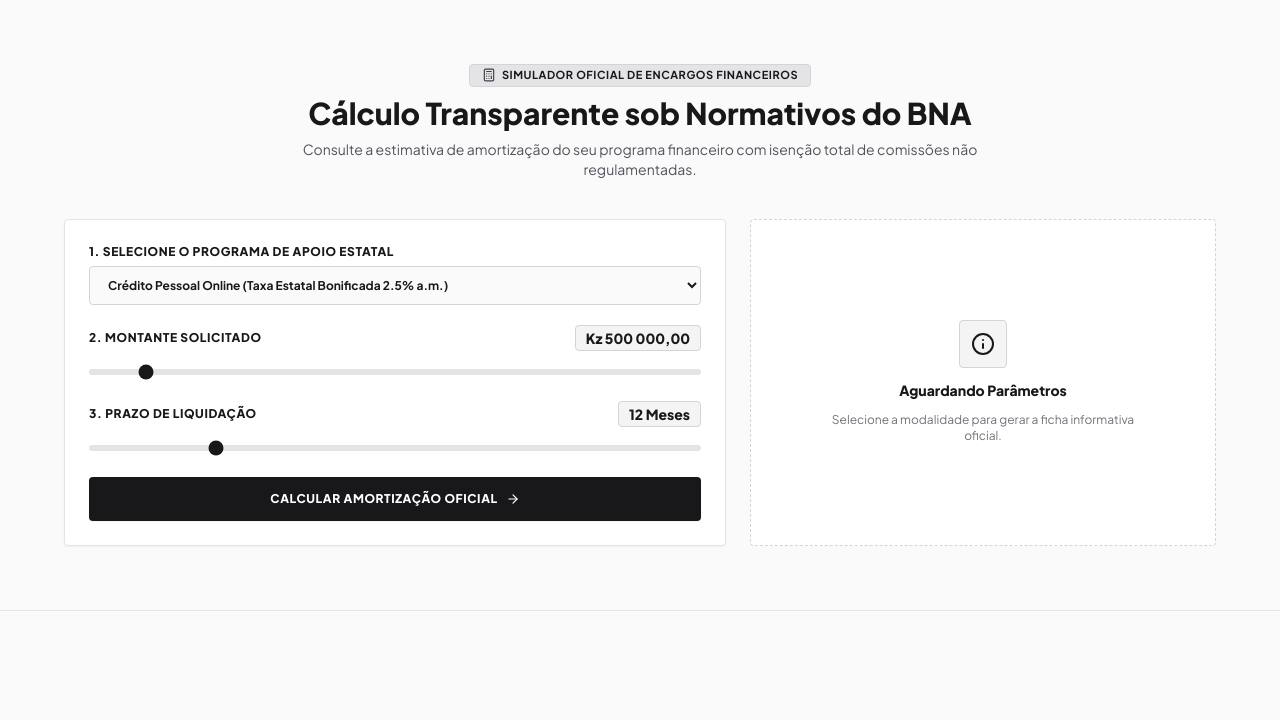
SimulatorSection Component › updates sliders and calculates loan amortization when calculate button is clicked
// Click calculate button
Click the button with test id "btn-simular-calcular": (395, 498) [89, 476, 701, 520]
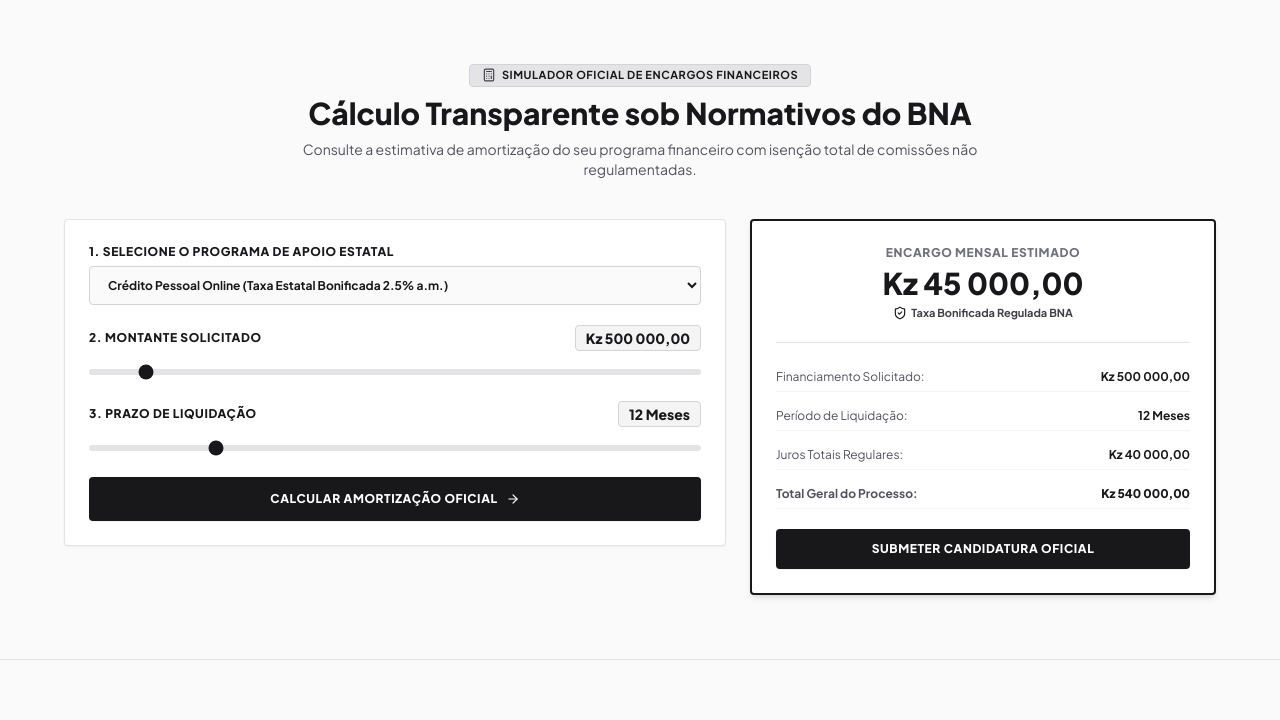
Expected: the text "Kz 45 000,00" is shown, [882, 264, 1084, 302]
